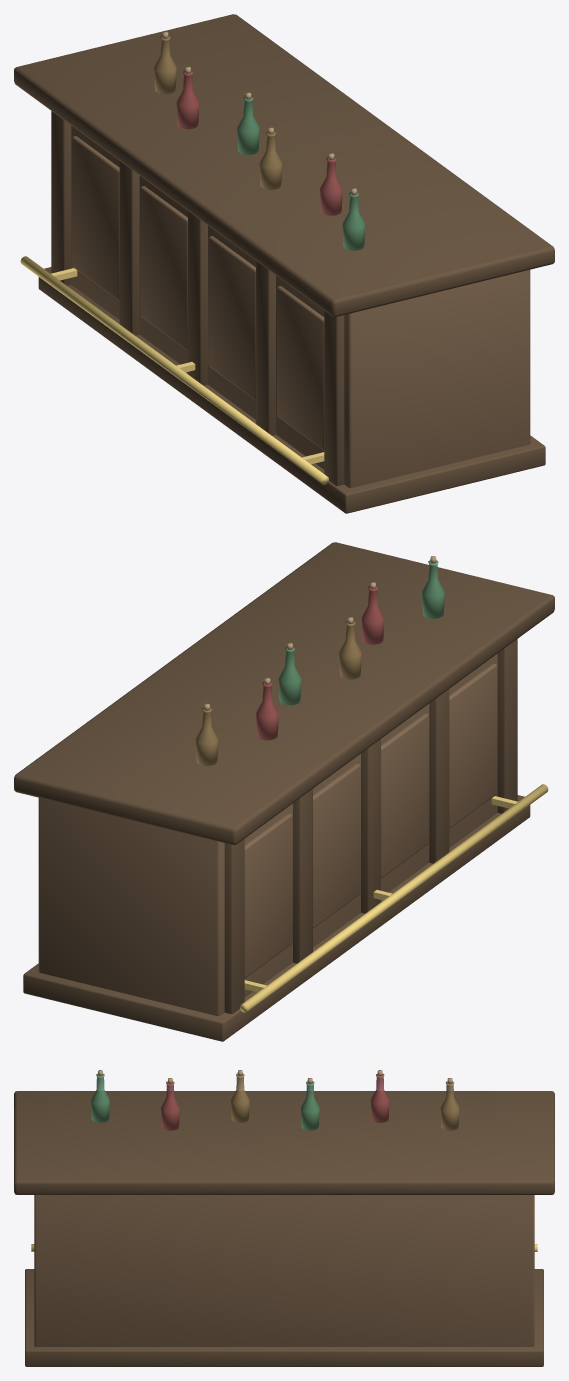
File: tavern_bar.glb
3 views of the same model, one above another, from view 1: azimuth 30°, elevation 25°; view 2: azimuth 150°, elevation 25°; view 3: azimuth 270°, elevation 25° (orthographic). The views are drawn at different scales.
Visible parts, largest first — view 1: BarCounterTop, BarBody, BarPlinth, BarPanel_0, BarPanel_3, BarPanel_2, BarPanel_1, BarFootrail, BarPilaster_0, BarPilaster_3, BarPilaster_4, BarPilaster_1 (+7 smaller); view 2: BarCounterTop, BarBody, BarPlinth, BarPanel_3, BarPanel_0, BarPanel_2, BarPanel_1, BarFootrail, BarPilaster_4, BarPilaster_1, BarPilaster_0, BarPilaster_3 (+7 smaller); view 3: BarBody, BarCounterTop, BarPlinth, BarBottle_0, BarBottle_1, BarBottle_2, BarBottle_5, BarBottle_3, BarBottle_4.
Boxes of the visible parts, bbox=[...] form: BarCounterTop: bbox=[14, 14, 554, 316]; BarBody: bbox=[71, 125, 530, 487]; BarPlinth: bbox=[38, 267, 545, 513]; BarPanel_0: bbox=[277, 286, 324, 449]; BarPanel_3: bbox=[72, 136, 119, 300]; BarPanel_2: bbox=[140, 186, 187, 350]; BarPanel_1: bbox=[208, 236, 255, 400]; BarFootrail: bbox=[20, 256, 328, 484]; BarPilaster_0: bbox=[324, 311, 344, 485]; BarPilaster_3: bbox=[119, 161, 139, 335]; BarPilaster_4: bbox=[51, 111, 71, 285]; BarPilaster_1: bbox=[256, 261, 275, 435]; BarCounterTop: bbox=[14, 542, 554, 844]; BarBody: bbox=[38, 653, 497, 1015]; BarPlinth: bbox=[23, 795, 530, 1041]; BarPanel_3: bbox=[244, 813, 292, 977]; BarPanel_0: bbox=[449, 663, 497, 827]; BarPanel_2: bbox=[313, 763, 360, 927]; BarPanel_1: bbox=[381, 713, 428, 877]; BarFootrail: bbox=[240, 784, 548, 1012]; BarPilaster_4: bbox=[224, 839, 244, 1013]; BarPilaster_1: bbox=[429, 689, 449, 863]; BarPilaster_0: bbox=[497, 639, 517, 813]; BarPilaster_3: bbox=[293, 789, 312, 963]; BarBody: bbox=[34, 1195, 534, 1346]; BarCounterTop: bbox=[14, 1091, 554, 1194]; BarPlinth: bbox=[25, 1269, 543, 1366]; BarBottle_0: bbox=[91, 1073, 109, 1122]; BarBottle_1: bbox=[161, 1081, 179, 1130]; BarBottle_2: bbox=[231, 1073, 249, 1122]; BarBottle_5: bbox=[440, 1081, 459, 1130]; BarBottle_3: bbox=[301, 1081, 319, 1130]; BarBottle_4: bbox=[371, 1073, 389, 1122].
Size of the model in its own units: 1.19 by 1.41 by 2.94.
